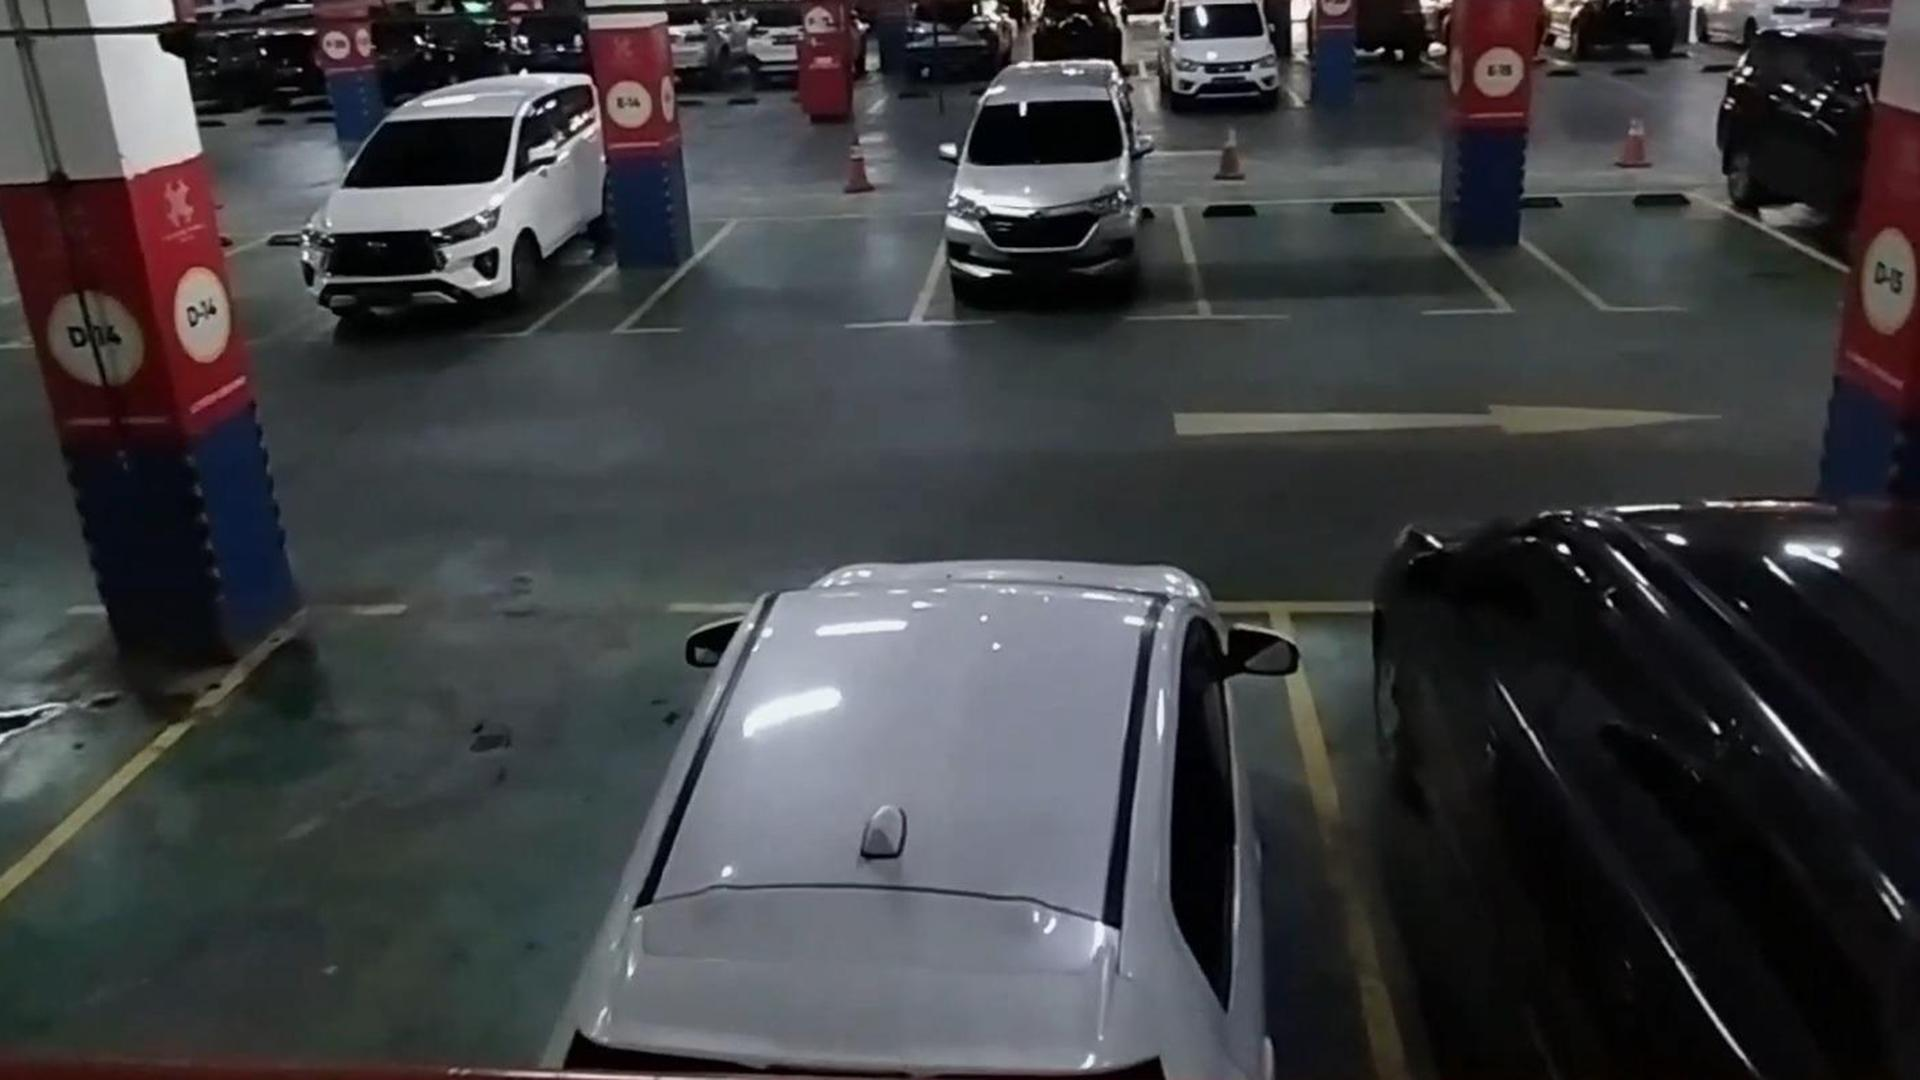empty: (15, 595, 634, 1080), (628, 214, 943, 335), (1191, 194, 1488, 322), (1518, 189, 1760, 314)
occupied: (626, 568, 1329, 1075), (300, 90, 604, 341), (922, 82, 1194, 328)
